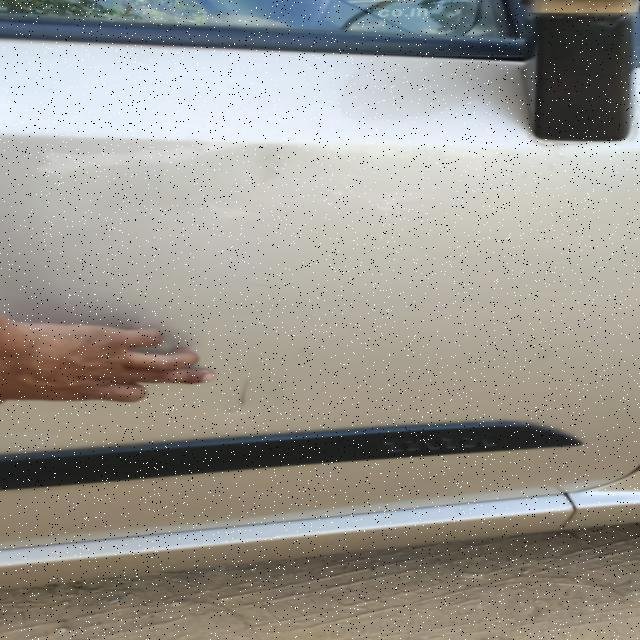doorouter-dent: (0, 34, 639, 504)
